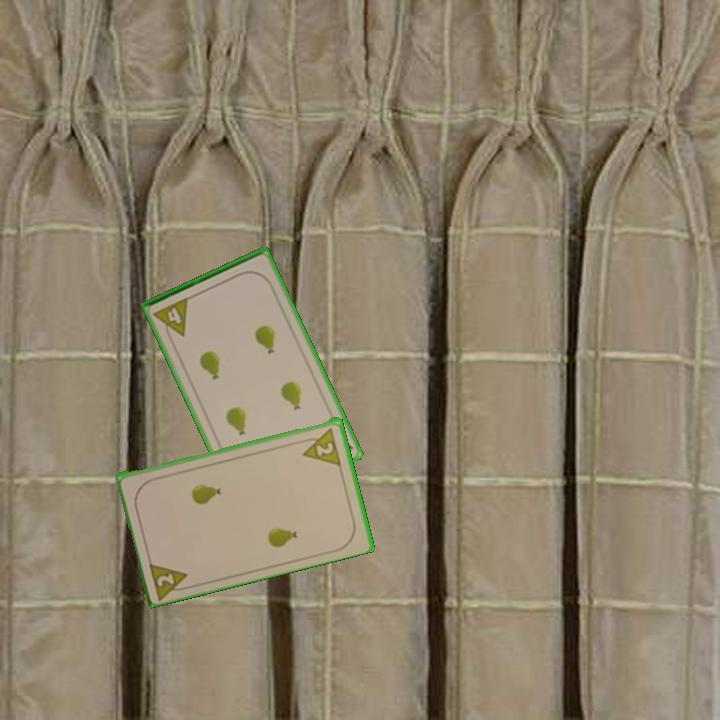2p: (145, 557, 194, 601), (297, 424, 344, 467)
4p: (150, 294, 192, 344)
